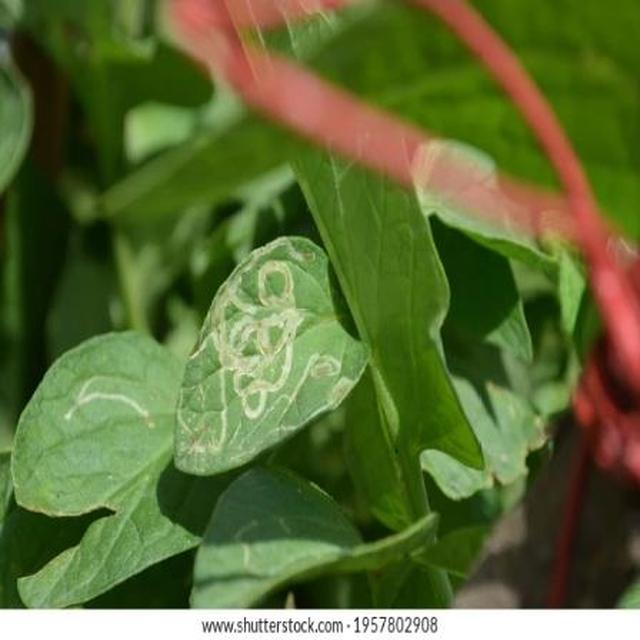Leaf Miner: (141, 271, 384, 605)
